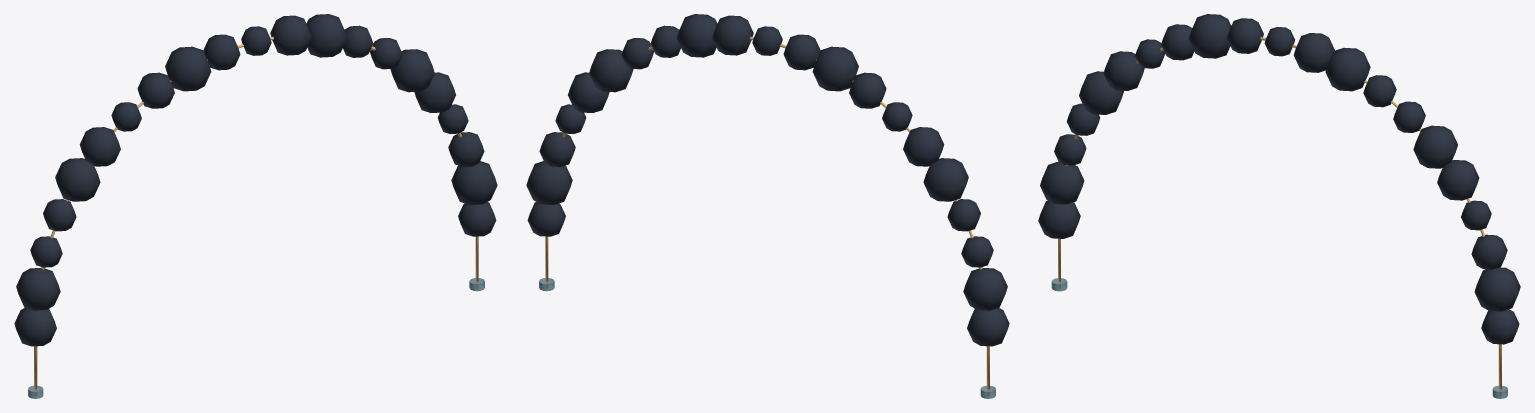
File: threshold-bubble-arch-a-lod1.glb
3 renders of one model, left to right at view 1: azimuth 30°, elevation 25°; view 2: azimuth 150°, elevation 25°; view 3: azimuth 330°, elevation 25°, orthographic.
Parts seen in each view (by area): view 1: frame; view 2: frame; view 3: frame.
Part boxes in pixels (<box>): frame: <box>14,14,497,398</box>; frame: <box>526,14,1009,398</box>; frame: <box>1038,14,1520,398</box>.
Size of the model in its own units: 17.24 by 10.92 by 1.5.
